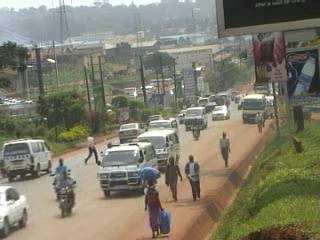Car: (0, 181, 31, 238), (116, 119, 147, 144), (209, 104, 233, 122), (176, 106, 193, 124), (147, 115, 166, 126), (202, 100, 217, 113)
Motorcycle: (47, 170, 76, 199), (56, 181, 77, 220), (189, 125, 203, 142), (236, 101, 243, 112)
